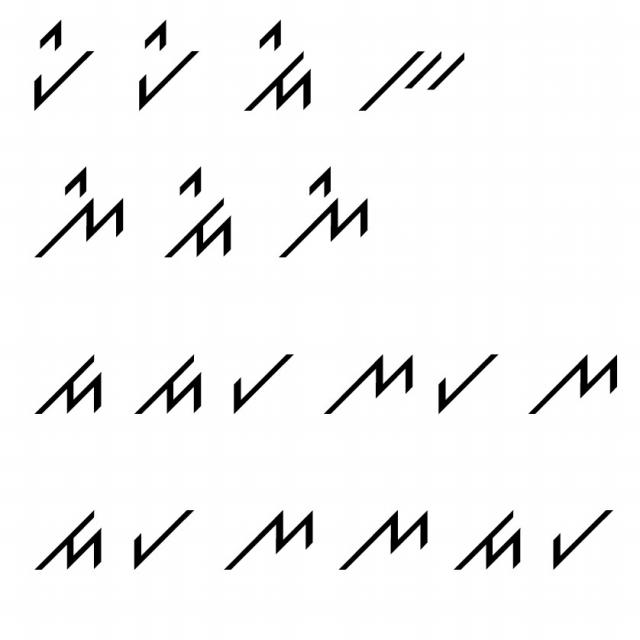da: (12, 336, 112, 418), (9, 498, 109, 578), (450, 490, 526, 578), (124, 343, 207, 422)
di: (160, 162, 243, 270), (243, 17, 325, 126)
na: (320, 340, 421, 430), (518, 346, 621, 426), (215, 503, 320, 578), (338, 500, 432, 580)
ni: (272, 164, 377, 271), (23, 163, 132, 264)
pa: (224, 343, 298, 418), (547, 498, 617, 577), (432, 340, 501, 418), (125, 500, 196, 574)
pi: (127, 15, 205, 113), (24, 11, 96, 117)
